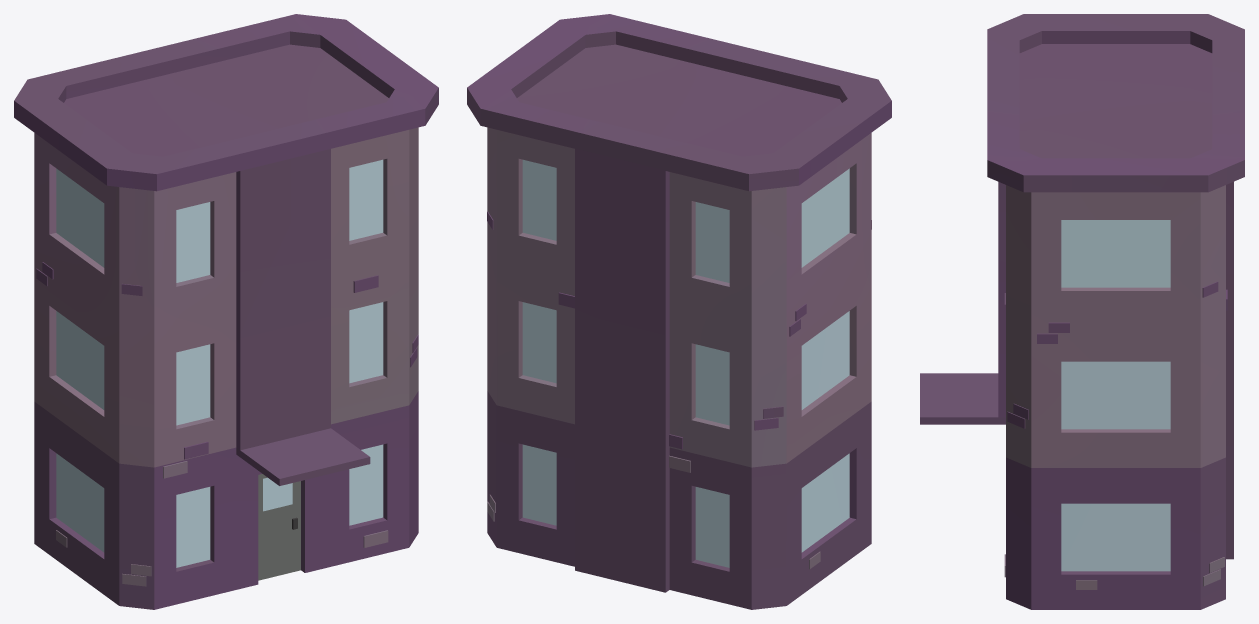
Rendered from city_building_3.glb.
The picture shows the model from 3 angles, left to right: view 1: azimuth 30°, elevation 25°; view 2: azimuth 150°, elevation 25°; view 3: azimuth 270°, elevation 25°; orthographic projection.
Visible parts, largest first — view 1: Building_7_Mat_0; view 2: Building_7_Mat_0; view 3: Building_7_Mat_0.
Boxes of the visible parts, x1,y1,x2,y2 form: Building_7_Mat_0: (14, 14, 438, 609); Building_7_Mat_0: (467, 14, 891, 609); Building_7_Mat_0: (920, 14, 1244, 609).
Size of the model in its own units: 3.98 by 5.09 by 3.39.
Materials: 1 (1 with a texture image).
